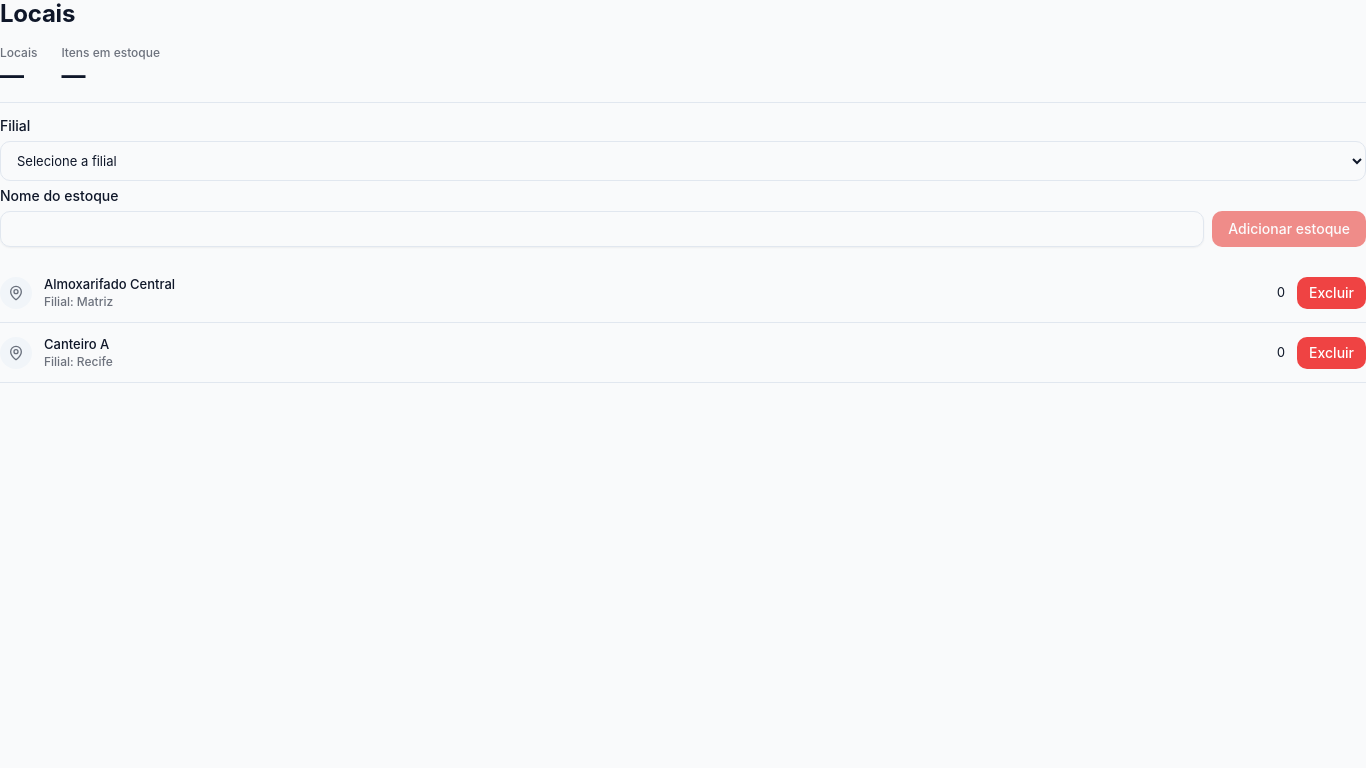
Scenario: LocaisEstoqueSection › "Excluir" abre o ConfirmDialog e confirmar dispara DELETE + toast + GET refeito sem o item
This screenshot has width=1366, height=768.
Expected: the text "Almoxarifado Central" is shown, [44,276,175,292]
Click the button with aria-label "Excluir estoque Almoxarifado Central". click: point(1332, 293)
box: [1297,277,1365,309]
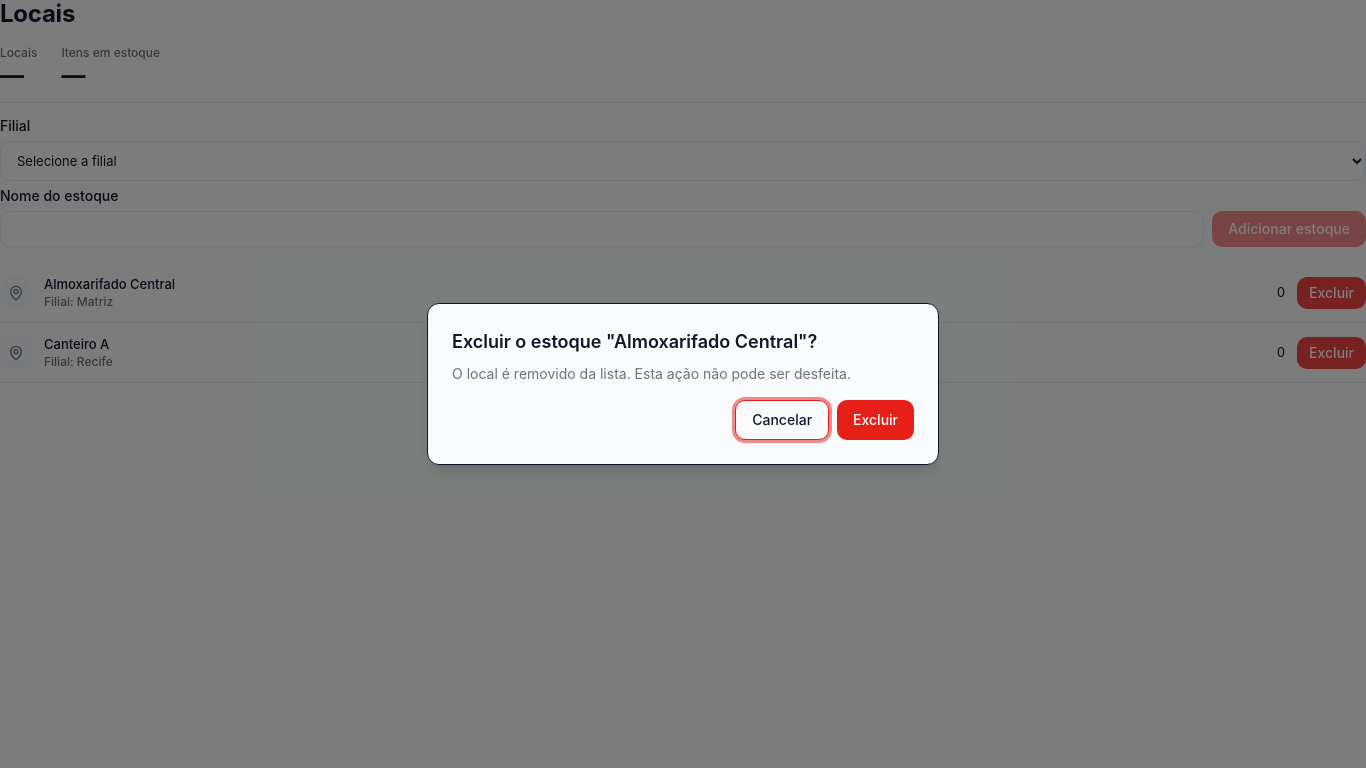
Click the button "Excluir". click: point(876, 420)
box: [837,400,914,440]
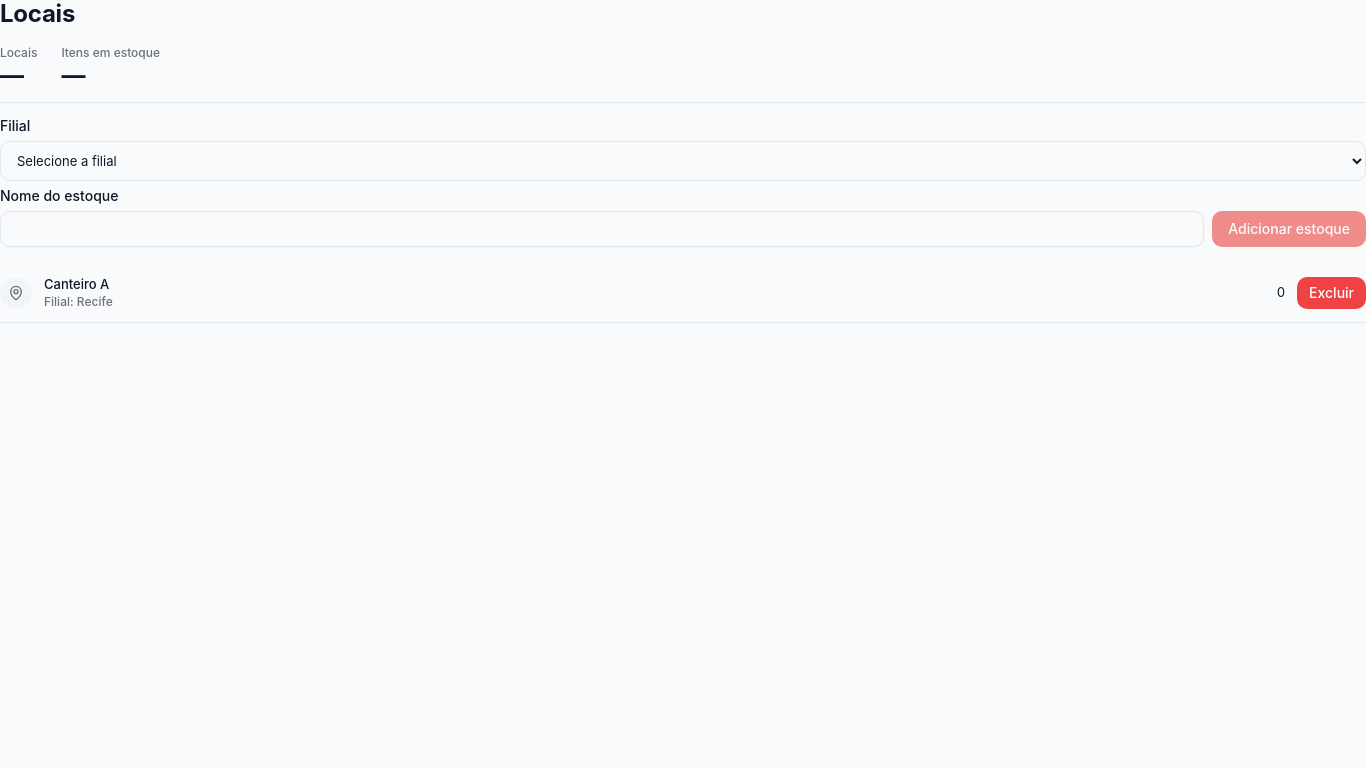
Expected: the text "Canteiro A" is shown, [44,276,109,292]
Expected: the text "Almoxarifado Central" is gone
